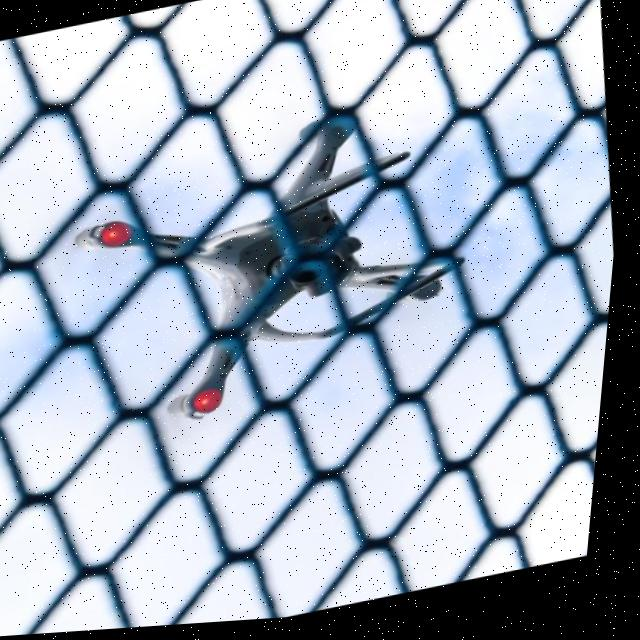drones: (21, 73, 511, 491)
